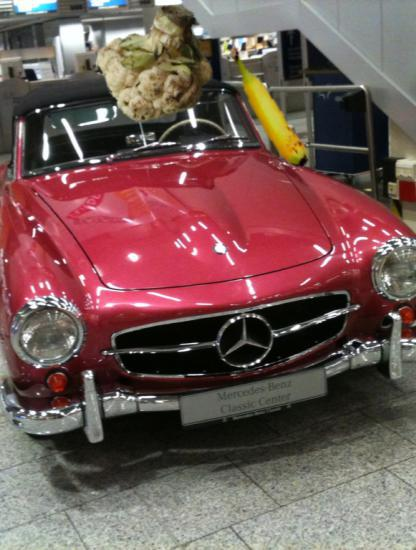Banana: (195, 34, 339, 178)
Cauliflower: (98, 7, 212, 121)
